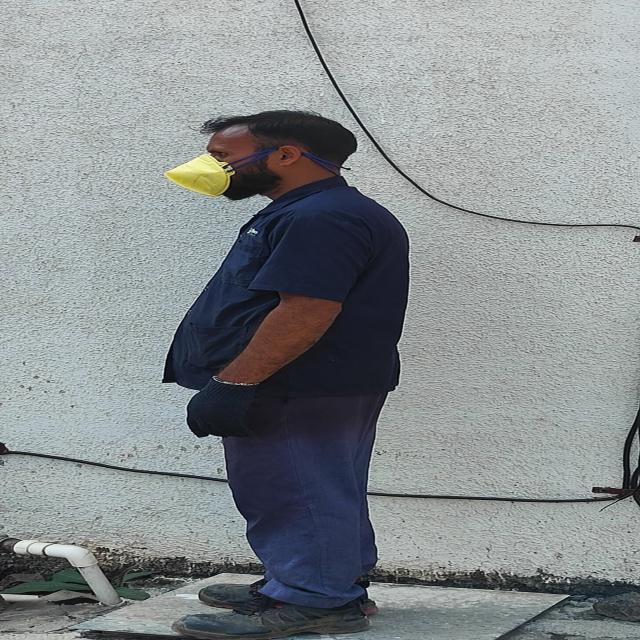gloved_hand: (137, 366, 309, 446)
